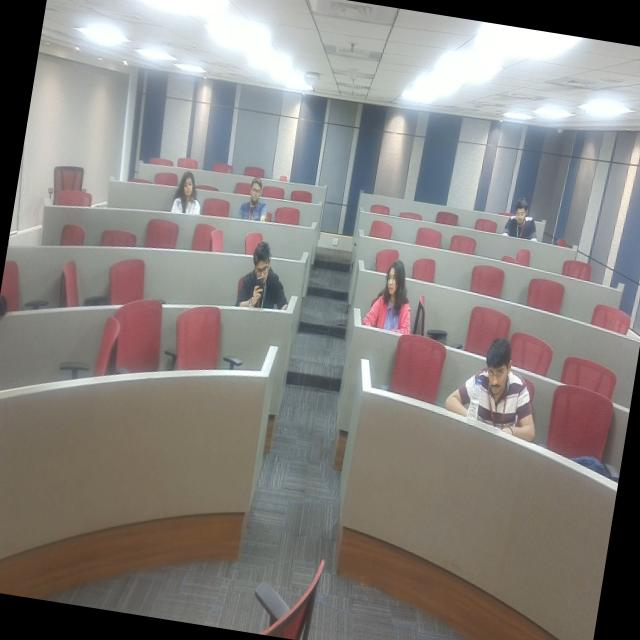cheating: (224, 234, 300, 326), (348, 259, 428, 342)
non-cheating: (438, 326, 546, 449)
